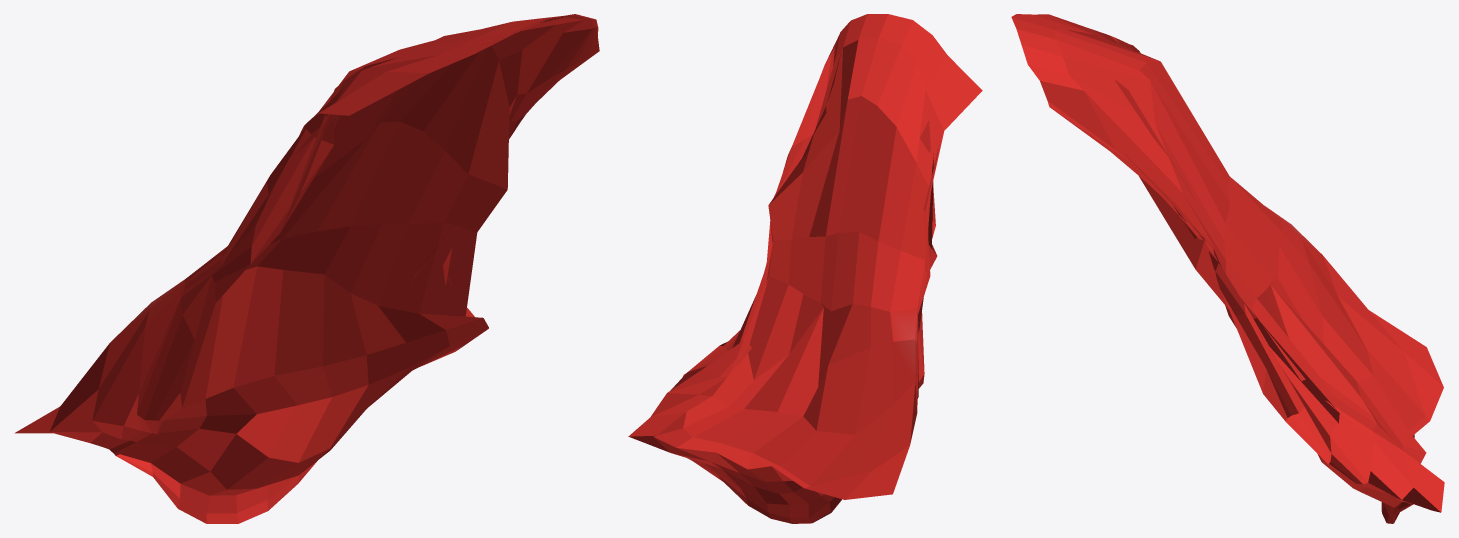
The model's file is Petal1_10.glb.
The picture shows the model from 3 angles, left to right: view 1: azimuth 30°, elevation 25°; view 2: azimuth 150°, elevation 25°; view 3: azimuth 270°, elevation 25°; orthographic projection. The views are drawn at different scales.
Visible parts, largest first — view 1: Cube.002; view 2: Cube.002; view 3: Cube.002.
Boxes of the visible parts, box(x1,y1,x2,y2) form: Cube.002: box(14, 14, 599, 523); Cube.002: box(628, 14, 982, 523); Cube.002: box(1011, 14, 1444, 523).
Bounding box in the file's own units: 15.74 × 22.96 × 17.58.
